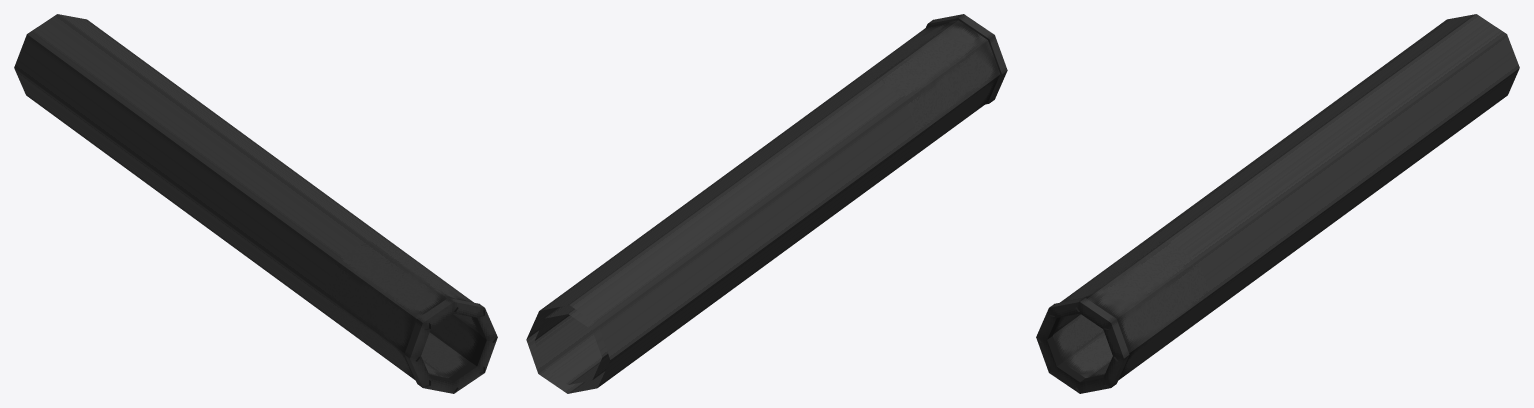
File: pipe_straight.glb
The picture shows the model from 3 angles, left to right: view 1: azimuth 30°, elevation 25°; view 2: azimuth 150°, elevation 25°; view 3: azimuth 330°, elevation 25°; orthographic projection.
Parts seen in each view (by area): view 1: Circle; view 2: Circle; view 3: Circle.
Part boxes in pixels (left/top/right/bottom): Circle: left=14, top=14, right=497, bottom=393; Circle: left=526, top=14, right=1007, bottom=393; Circle: left=1036, top=14, right=1519, bottom=393.
Bounding box in the file's own units: 2.86 × 2.86 × 22.52.
Materials: 1 (1 with a texture image).
